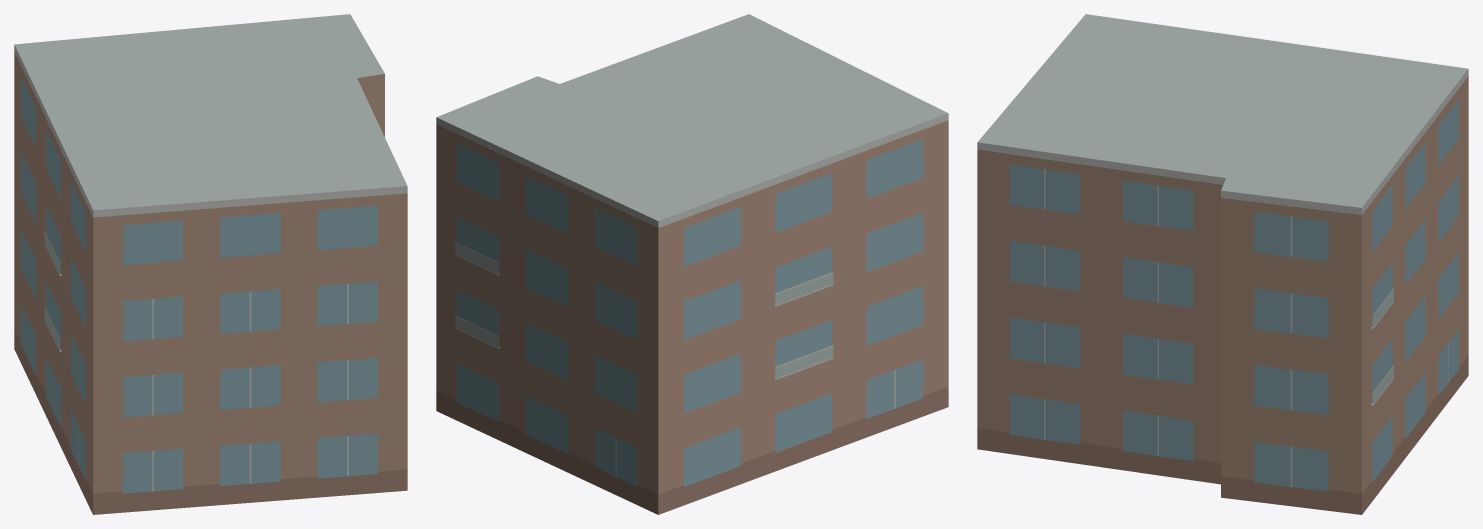
The model's file is survey-upis-32717481.glb.
The picture shows the model from 3 angles, left to right: view 1: azimuth 30°, elevation 25°; view 2: azimuth 150°, elevation 25°; view 3: azimuth 270°, elevation 25°; orthographic projection. The views are drawn at different scales.
Visible parts, largest first — view 1: survey-upis-32717481.tmp; view 2: survey-upis-32717481.tmp; view 3: survey-upis-32717481.tmp.
Boxes of the visible parts, x1,y1,x2,y2 form: survey-upis-32717481.tmp: [14, 14, 407, 514]; survey-upis-32717481.tmp: [436, 14, 948, 514]; survey-upis-32717481.tmp: [977, 14, 1468, 514].
Bounding box in the file's own units: 14.1 × 10.4 × 15.09.
